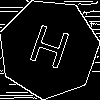H: (23, 23, 73, 79)
